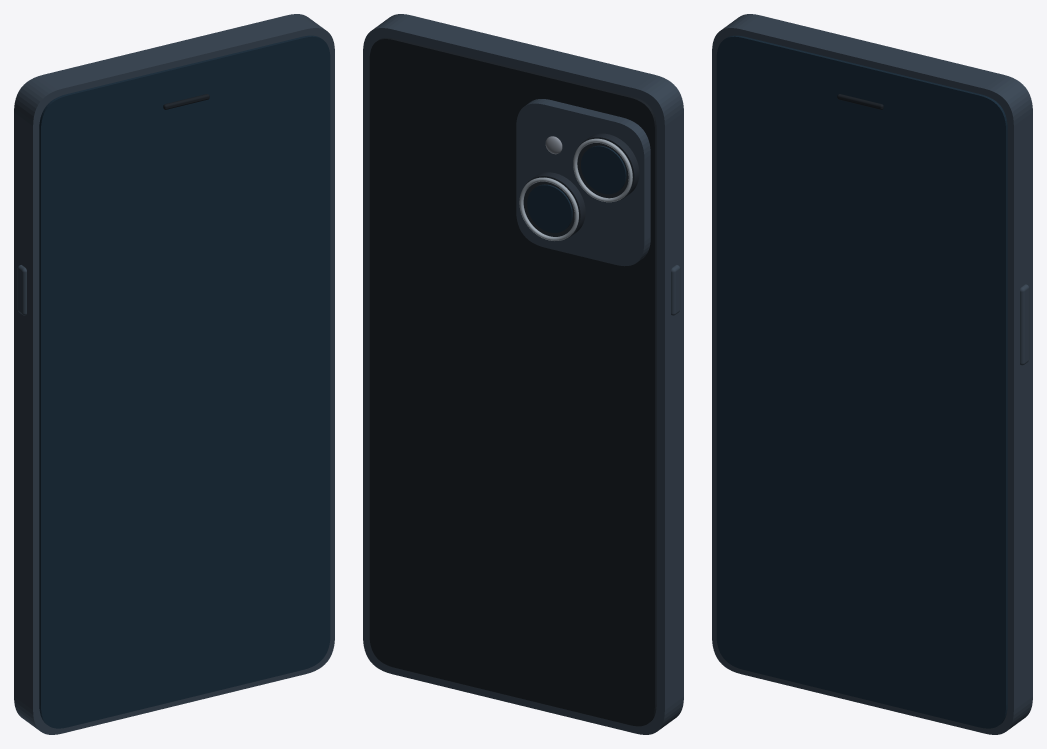
The model's file is modern_smartphone_prop.glb.
3 renders of one model, left to right at view 1: azimuth 30°, elevation 25°; view 2: azimuth 150°, elevation 25°; view 3: azimuth 330°, elevation 25°, orthographic.
Visible parts, largest first — view 1: smartphone:Atelier_OpticalGlass, smartphone:PhoneV5_Aluminium; view 2: smartphone:Atelier_SoftRubber, smartphone:PhoneV5_Aluminium, smartphone:Atelier_OpticalGlass, smartphone:Atelier_AnodizedMetal, smartphone:Atelier_BrushedSteel; view 3: smartphone:Atelier_OpticalGlass, smartphone:PhoneV5_Aluminium.
Part boxes in pixels (x1=…): smartphone:Atelier_OpticalGlass: x1=39, y1=35, x2=330, y2=728; smartphone:PhoneV5_Aluminium: x1=14, y1=14, x2=334, y2=734; smartphone:Atelier_SoftRubber: x1=369, y1=38, x2=656, y2=726; smartphone:PhoneV5_Aluminium: x1=363, y1=14, x2=683, y2=734; smartphone:Atelier_OpticalGlass: x1=527, y1=145, x2=626, y2=232; smartphone:Atelier_AnodizedMetal: x1=523, y1=133, x2=639, y2=239; smartphone:Atelier_BrushedSteel: x1=519, y1=138, x2=632, y2=240; smartphone:Atelier_OpticalGlass: x1=716, y1=35, x2=1007, y2=728; smartphone:PhoneV5_Aluminium: x1=712, y1=14, x2=1032, y2=734.
Bounding box in the file's own units: 0.0747 × 0.1493 × 0.0159.
